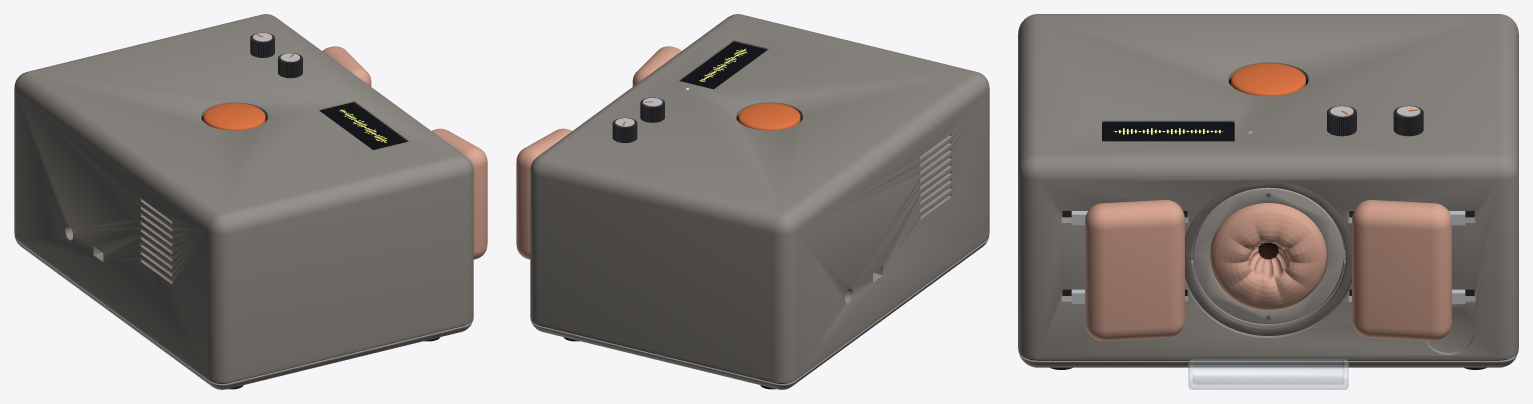
The picture shows the model from 3 angles, left to right: view 1: azimuth 30°, elevation 25°; view 2: azimuth 150°, elevation 25°; view 3: azimuth 270°, elevation 25°; orthographic projection. The views are drawn at different scales.
Parts seen in each view (by area): view 1: body_top, body_base, pad_R, display_glass, play_button, pad_L, knob0, knob1; view 2: body_top, body_base, pad_L, display_glass, play_button, pad_R, knob1, knob0; view 3: body_top, pad_L, pad_R, ring, carrier, drip_tray, bezel, body_base, display_glass, play_button, knob1, knob0 (+1 smaller).
Boxes of the visible parts, bbox=[...] form: body_top: bbox=[14, 14, 473, 383]; body_base: bbox=[15, 239, 472, 389]; pad_R: bbox=[432, 128, 487, 259]; display_glass: bbox=[319, 102, 407, 149]; play_button: bbox=[203, 103, 265, 130]; pad_L: bbox=[322, 46, 371, 86]; knob0: bbox=[278, 53, 302, 78]; knob1: bbox=[250, 32, 274, 57]; body_top: bbox=[530, 14, 989, 383]; body_base: bbox=[531, 239, 988, 389]; pad_L: bbox=[516, 128, 571, 259]; display_glass: bbox=[680, 41, 767, 89]; play_button: bbox=[738, 103, 800, 130]; pad_R: bbox=[632, 46, 681, 86]; knob1: bbox=[612, 117, 637, 142]; knob0: bbox=[640, 97, 664, 122]; body_top: bbox=[1018, 14, 1518, 359]; pad_L: bbox=[1352, 200, 1451, 340]; pad_R: bbox=[1085, 200, 1184, 340]; ring: bbox=[1210, 203, 1326, 310]; carrier: bbox=[1191, 187, 1345, 323]; drip_tray: bbox=[1188, 359, 1348, 389]; bezel: bbox=[1185, 180, 1351, 335]; body_base: bbox=[1019, 354, 1517, 367]; display_glass: bbox=[1103, 121, 1233, 141]; play_button: bbox=[1231, 63, 1305, 96]; knob1: bbox=[1393, 105, 1423, 136]; knob0: bbox=[1327, 105, 1356, 136].
Size of the model in its own units: 0.2543 by 0.1588 by 0.3.
